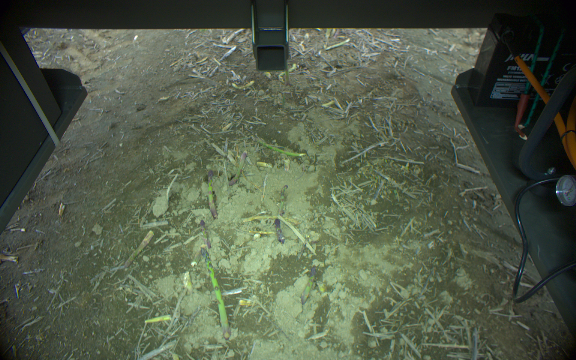aspa: (200, 247, 232, 334), (250, 134, 309, 158), (300, 261, 322, 307), (205, 170, 223, 217), (228, 150, 249, 188), (271, 208, 284, 244), (198, 219, 213, 249), (325, 37, 352, 52), (281, 68, 292, 89)
